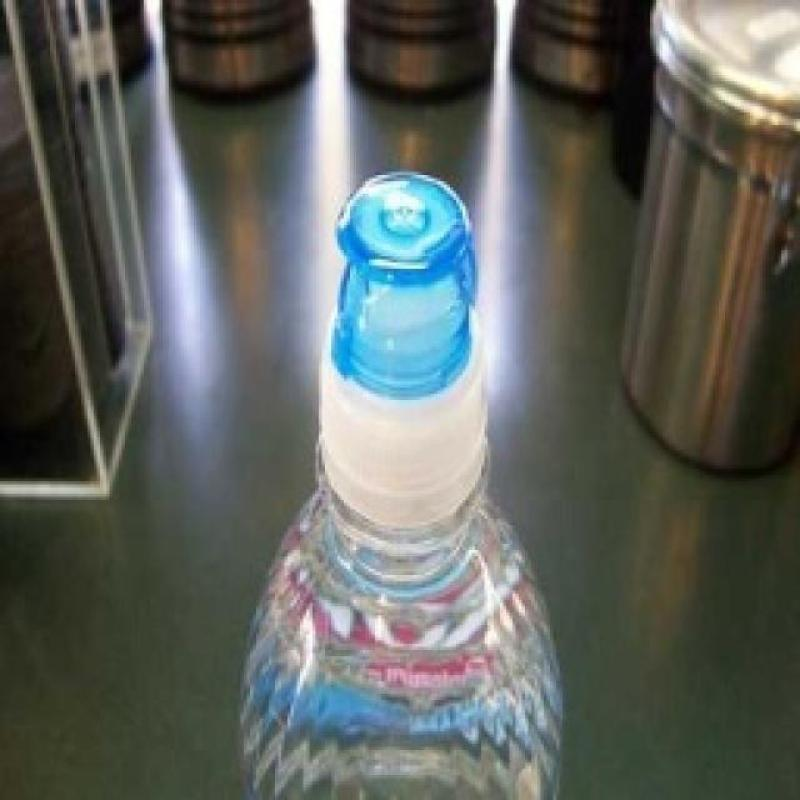botella: (245, 169, 570, 800)
